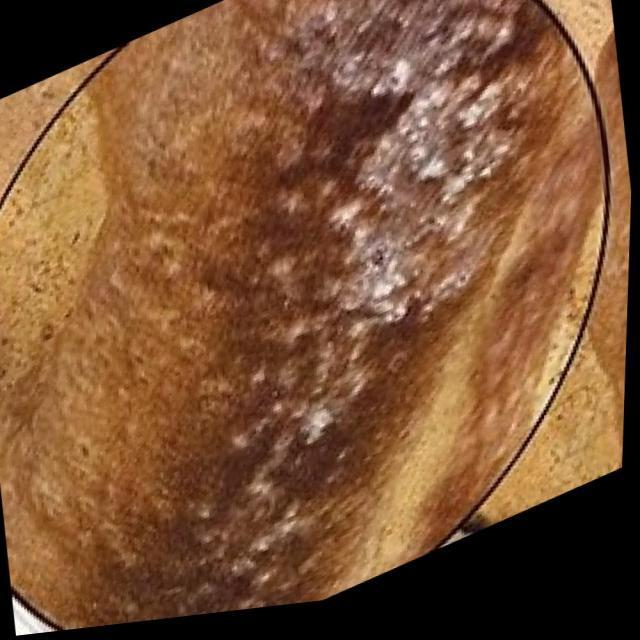di ung bo chet: (42, 97, 452, 479)
